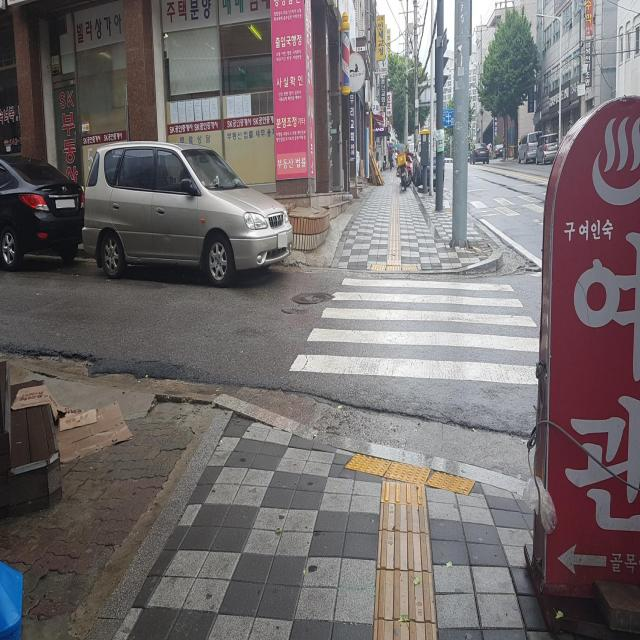횡단보도: (288, 274, 543, 388), (469, 193, 545, 223)
